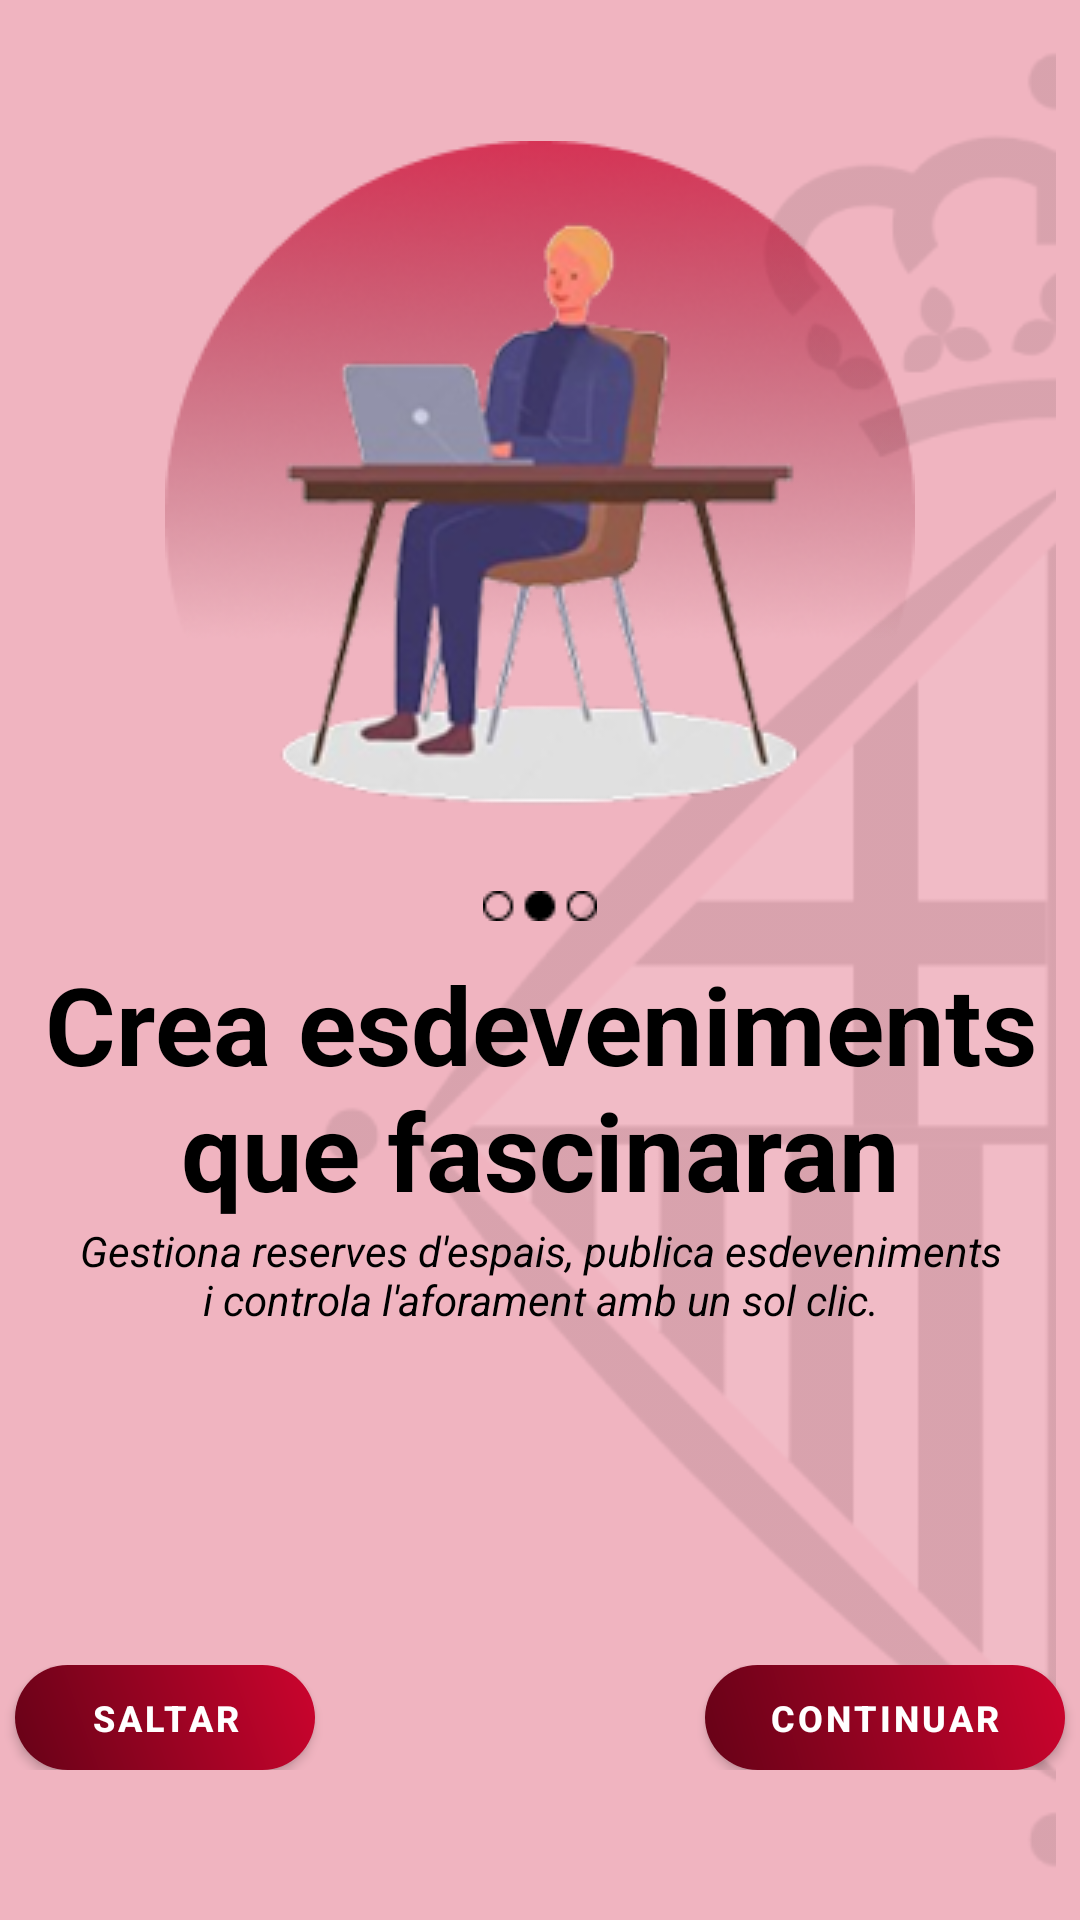

Icons on this 1080w x 1920h Android screen, each with the point to tap as point (x, y):
onboarding circulos: point (540, 906)
